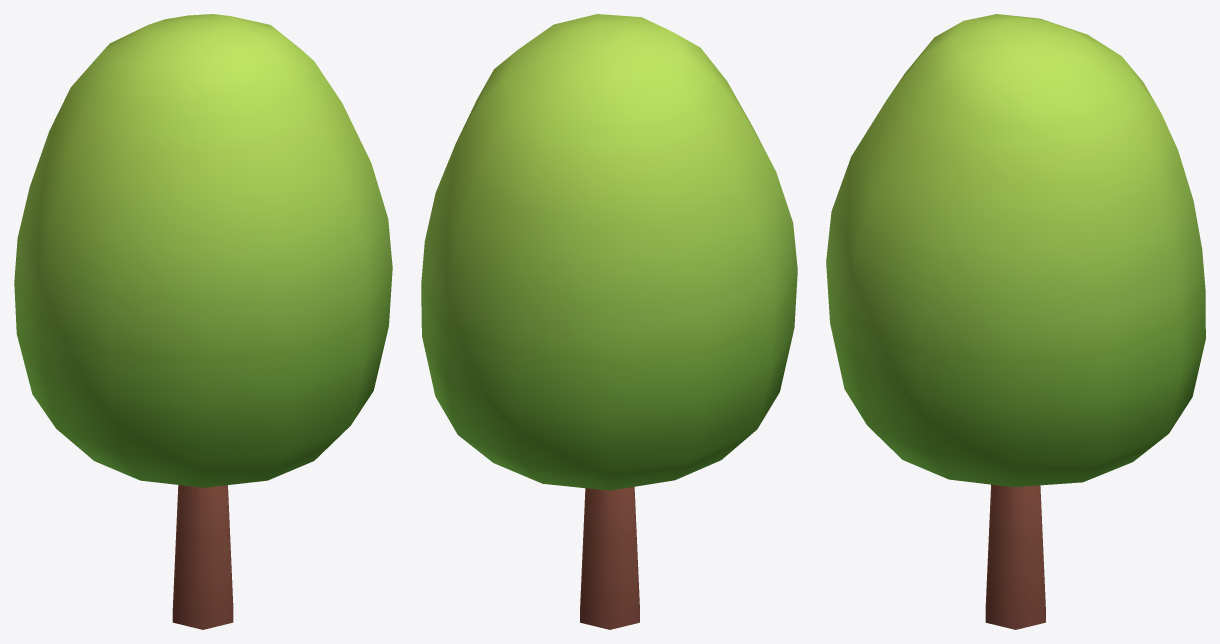
File: city2-tree-07.glb
The picture shows the model from 3 angles, left to right: view 1: azimuth 30°, elevation 25°; view 2: azimuth 150°, elevation 25°; view 3: azimuth 270°, elevation 25°; orthographic projection.
Visible parts, largest first — view 1: Tree_07; view 2: Tree_07; view 3: Tree_07.
Part boxes in pixels (x1,y1,x2,y2): Tree_07: (14, 14, 392, 629); Tree_07: (421, 14, 797, 629); Tree_07: (826, 14, 1205, 629).
Size of the model in its own units: 3.07 by 5.26 by 3.09.
Materials: 1 (1 with a texture image).
